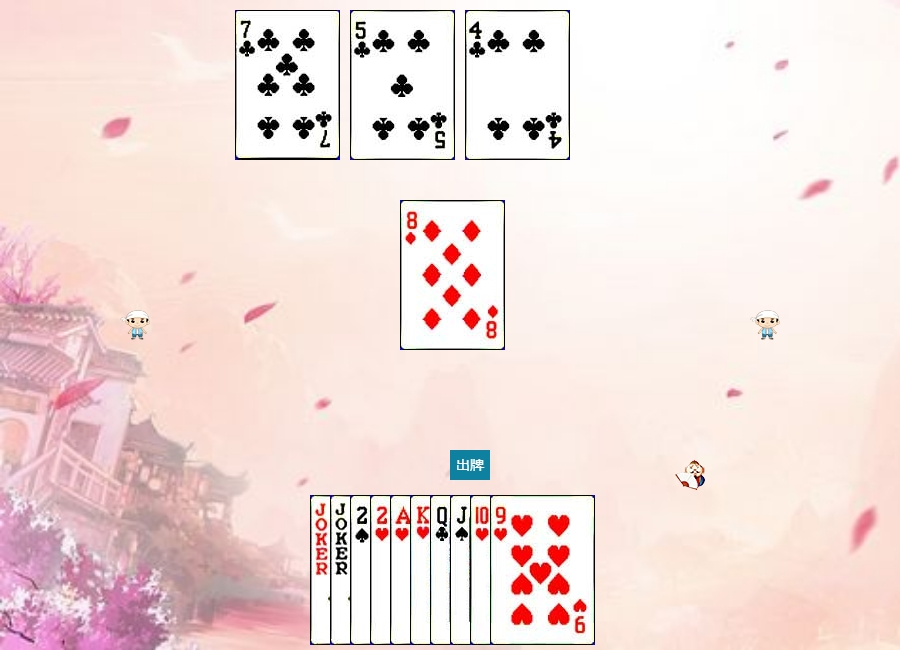10~3: (470, 495, 575, 645)
11~4: (450, 495, 555, 645)
12~2: (430, 495, 535, 645)
13~3: (410, 495, 515, 645)
14~3: (390, 495, 495, 645)
15~3: (370, 495, 475, 645)
15~4: (350, 495, 455, 645)
17~3: (330, 495, 435, 645)
18~4: (310, 495, 415, 645)
4~2: (465, 10, 570, 160)
5~2: (350, 10, 455, 160)
7~2: (235, 10, 340, 160)
8~1: (400, 200, 505, 350)
9~3: (490, 495, 595, 645)
